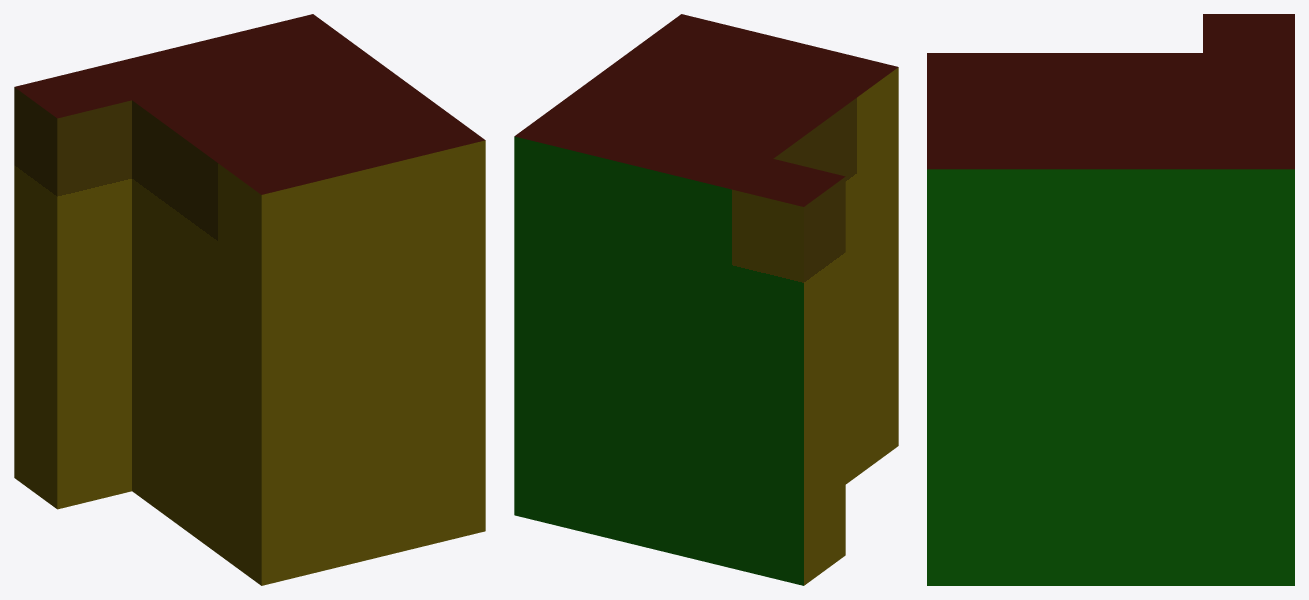
Rendered from block_29.fbx.
3 views of the same model, side by side, from view 1: azimuth 30°, elevation 25°; view 2: azimuth 150°, elevation 25°; view 3: azimuth 270°, elevation 25° (orthographic). The views are drawn at different scales.
Parts seen in each view (by area): view 1: box; view 2: box; view 3: box.
Part boxes in pixels (x1,y1,x2,y2): box: (14,14,485,585); box: (514,14,898,585); box: (927,14,1294,585).
Bounding box in the file's own units: 400 × 500 × 400.
Materials: 1 (1 with a texture image).
